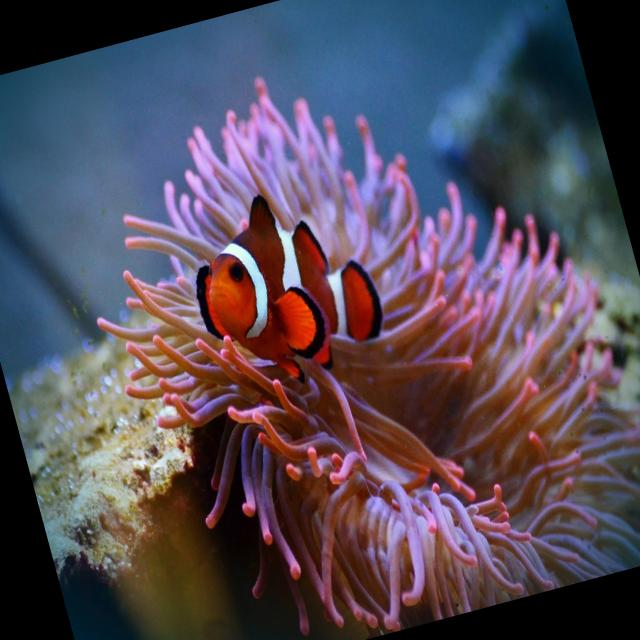ClownFish: (176, 164, 402, 411)
